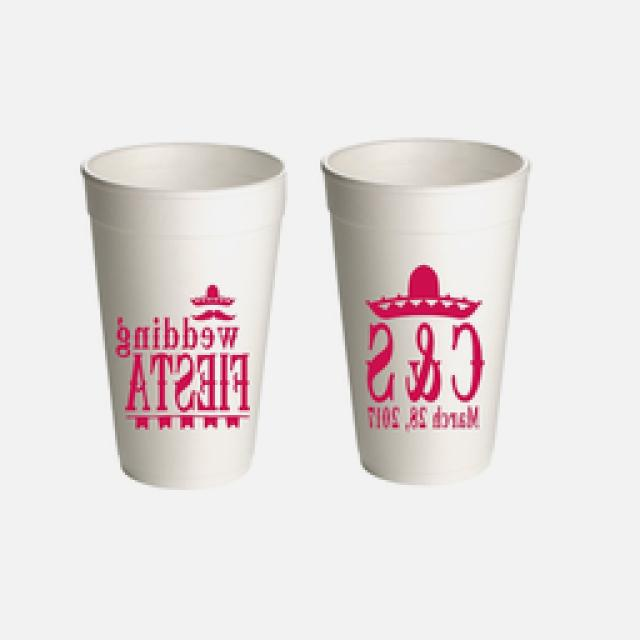inorganic: (323, 140, 527, 484)
